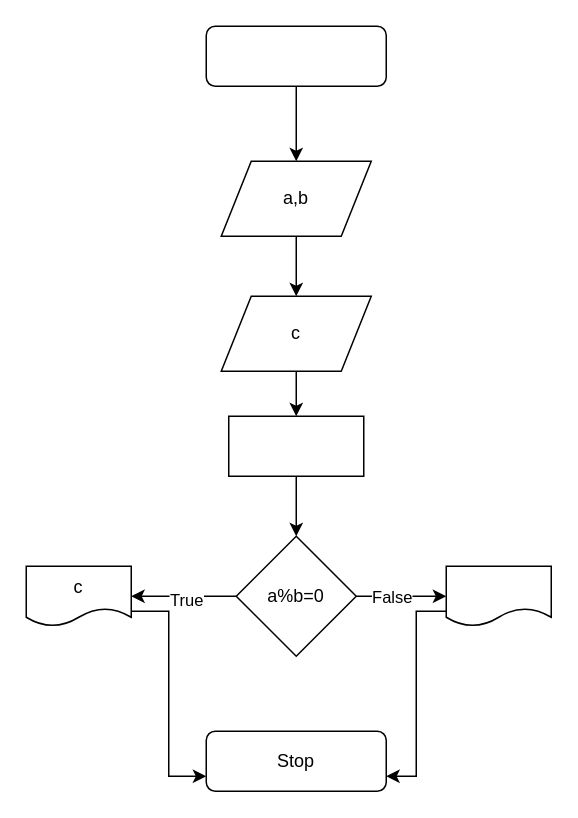
Image size: 578x818. Some labels were removed from this diagram. The shapes that lost their labels are listed below. From the top down, each one's box as (x1, y1, x2, y2) in pixels, then its label:
(205, 25, 386, 86): Start
(227, 415, 364, 476): a:b=c
(445, 565, 551, 626): Not divided
